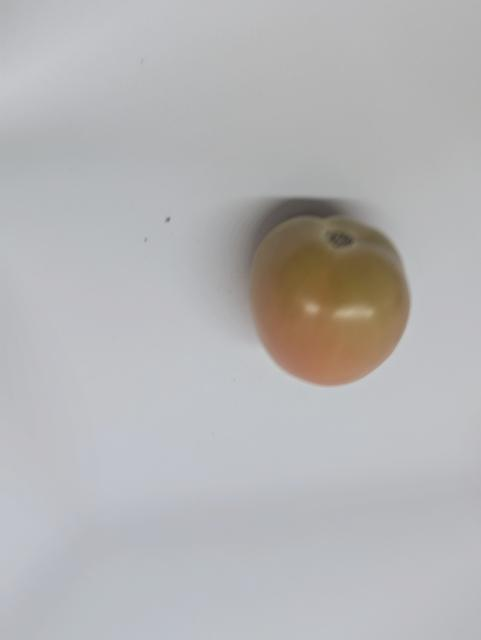turning: (238, 204, 427, 404)
